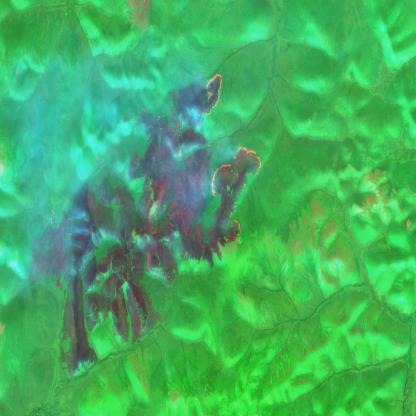fire: (206, 147, 266, 247), (191, 61, 235, 125)
